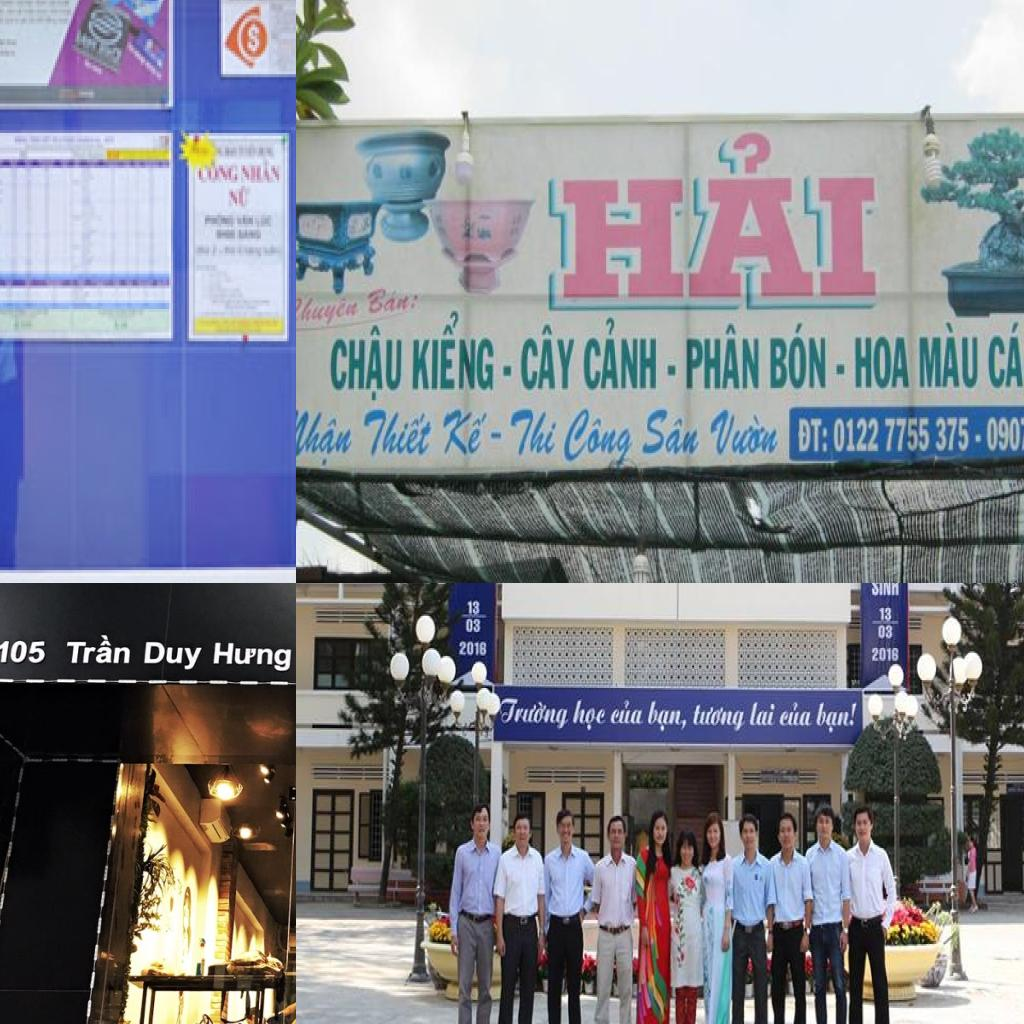text: (544, 120, 888, 315), (409, 304, 500, 400), (580, 313, 660, 395), (327, 325, 406, 405), (834, 414, 971, 458), (684, 318, 762, 393), (561, 404, 638, 474), (518, 316, 579, 395), (708, 403, 782, 465), (917, 320, 981, 391), (362, 403, 437, 463), (765, 323, 829, 393), (296, 403, 358, 469), (637, 402, 702, 461), (852, 332, 913, 393), (509, 400, 564, 460), (984, 318, 1024, 396), (437, 405, 492, 461), (500, 694, 573, 733), (210, 640, 293, 674), (60, 632, 134, 669), (296, 294, 361, 331), (366, 280, 422, 318), (142, 639, 206, 672), (690, 701, 748, 736), (645, 699, 692, 736), (796, 412, 830, 458), (987, 413, 1024, 454), (0, 637, 50, 667), (569, 698, 610, 732), (241, 159, 283, 189), (777, 700, 817, 730), (197, 162, 241, 189), (608, 698, 647, 728), (748, 699, 778, 731), (245, 18, 263, 56), (227, 186, 255, 209), (458, 640, 488, 659), (871, 646, 901, 664), (871, 583, 901, 598), (876, 624, 894, 642), (666, 360, 682, 380), (466, 598, 482, 618), (464, 618, 482, 635), (878, 606, 894, 624), (501, 359, 514, 381), (490, 428, 504, 444), (835, 362, 847, 378), (974, 432, 984, 446)
